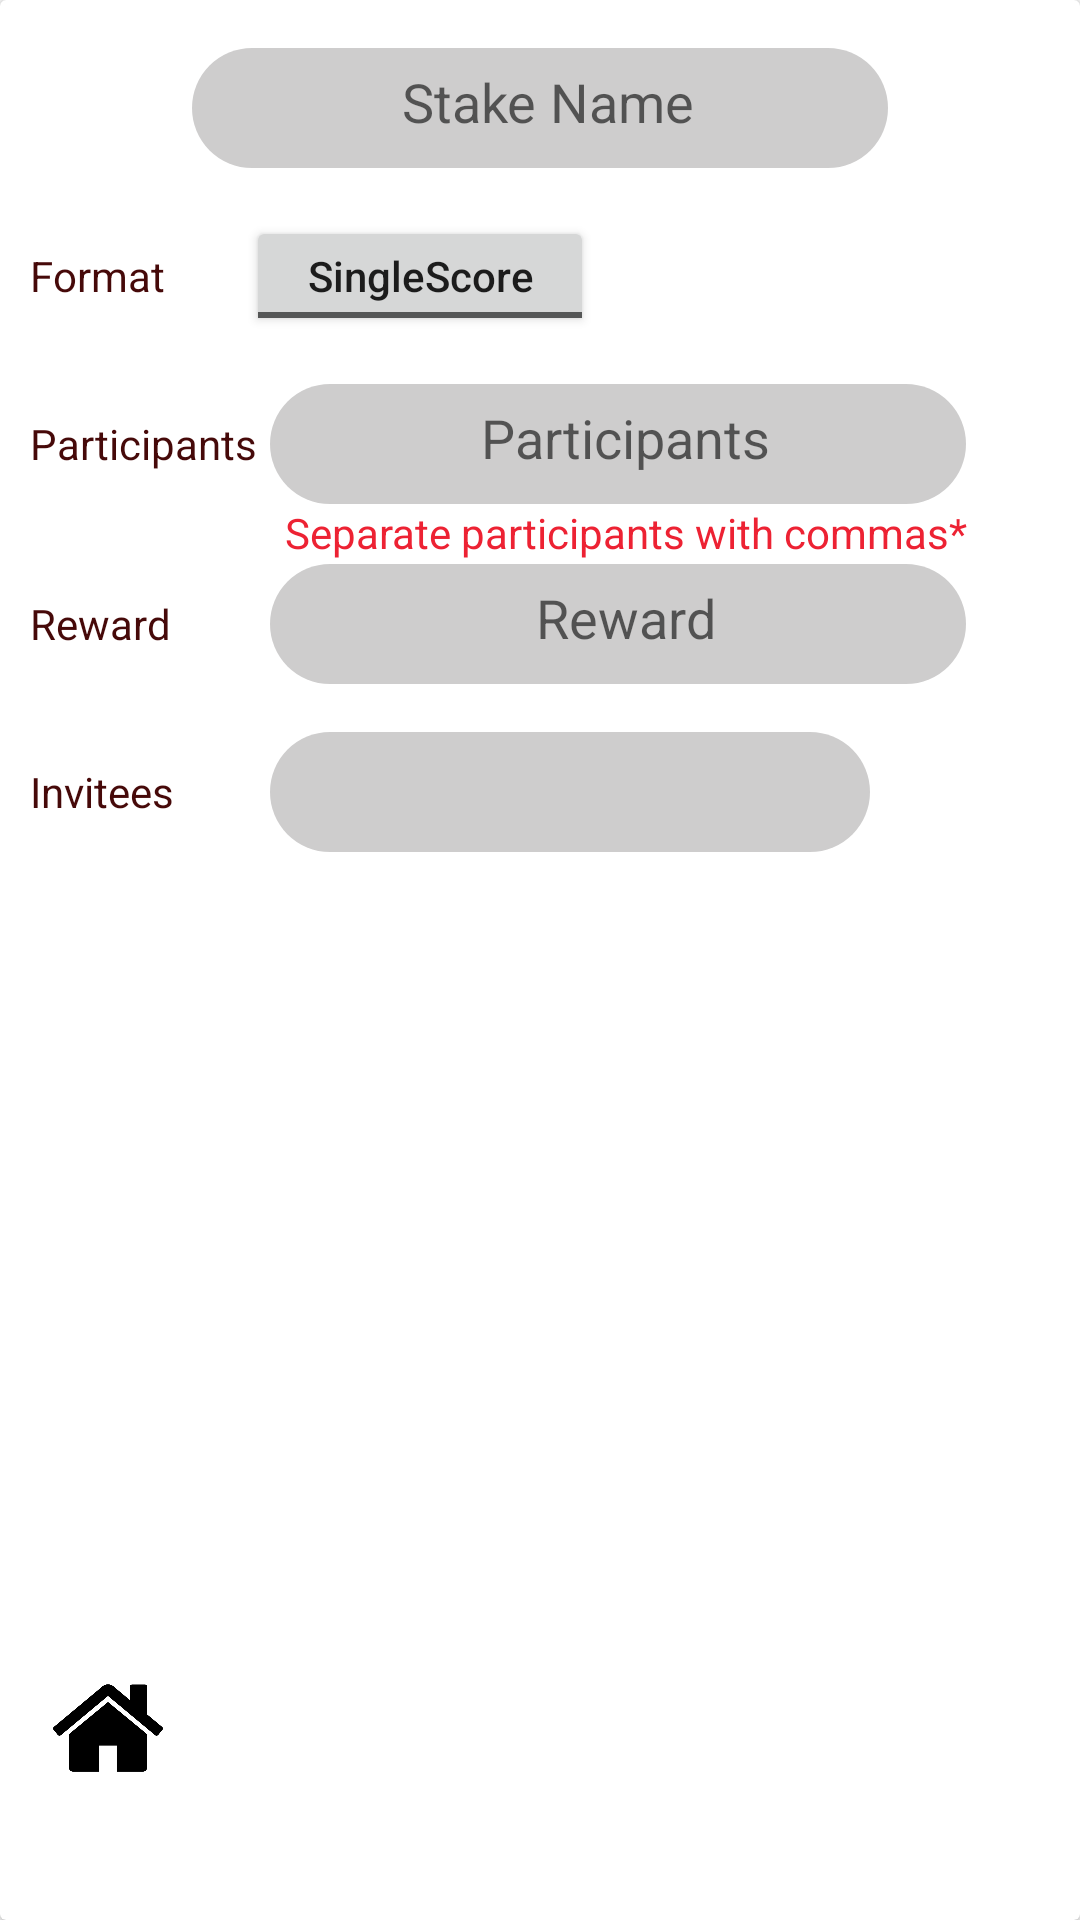

Icon click points for this 1080px x 1920px phone screenshot, format (x,y):
home: (108,1728)
